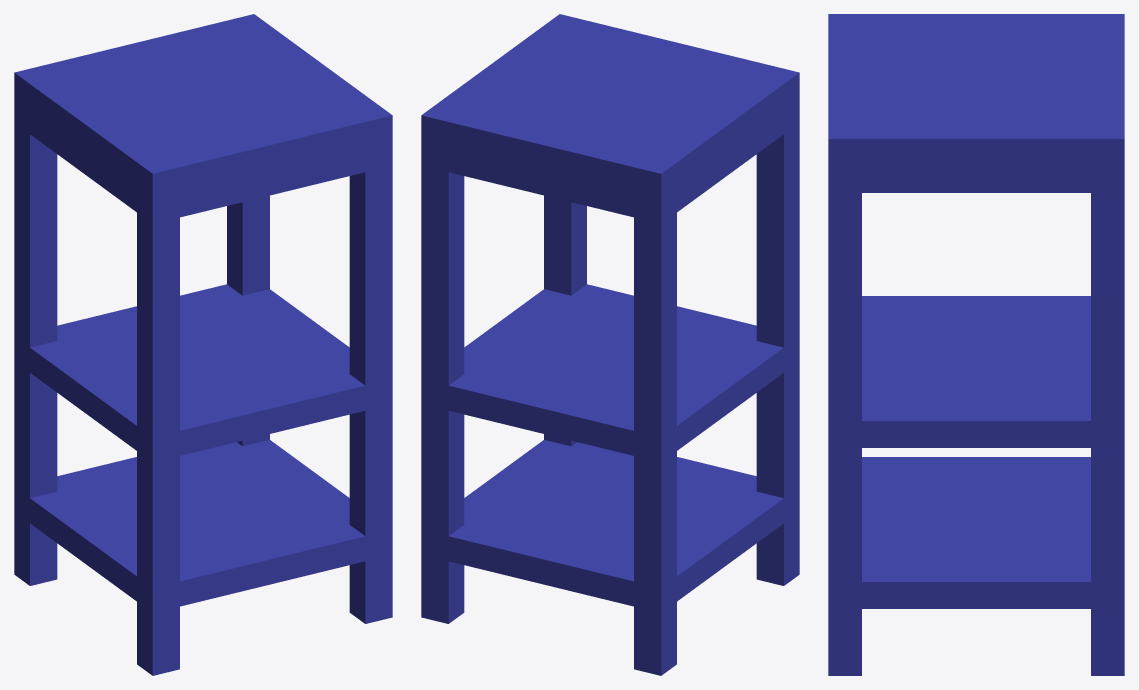
Rendered from stool_1x2x1.FBX.
3 views of the same model, side by side, from view 1: azimuth 30°, elevation 25°; view 2: azimuth 150°, elevation 25°; view 3: azimuth 270°, elevation 25° (orthographic). The views are drawn at different scales.
Visible parts, largest first — view 1: stool_1x2x1; view 2: stool_1x2x1; view 3: stool_1x2x1.
Boxes of the visible parts, x1=… form: stool_1x2x1: x1=14, y1=14, x2=392, y2=675; stool_1x2x1: x1=421, y1=14, x2=799, y2=675; stool_1x2x1: x1=828, y1=14, x2=1124, y2=675.
Bounding box in the file's own units: 1 × 2 × 1.
